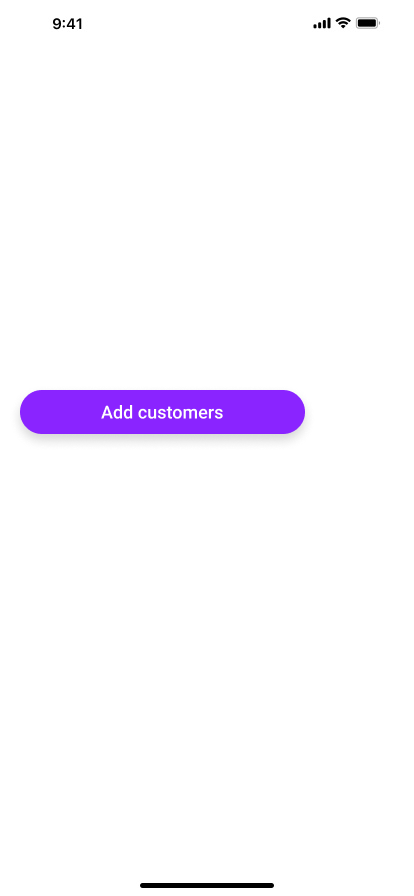Buttons: (8, 384, 317, 452)
Home Indicator: (0, 862, 414, 896)
Status Bar: (0, 0, 414, 44)
